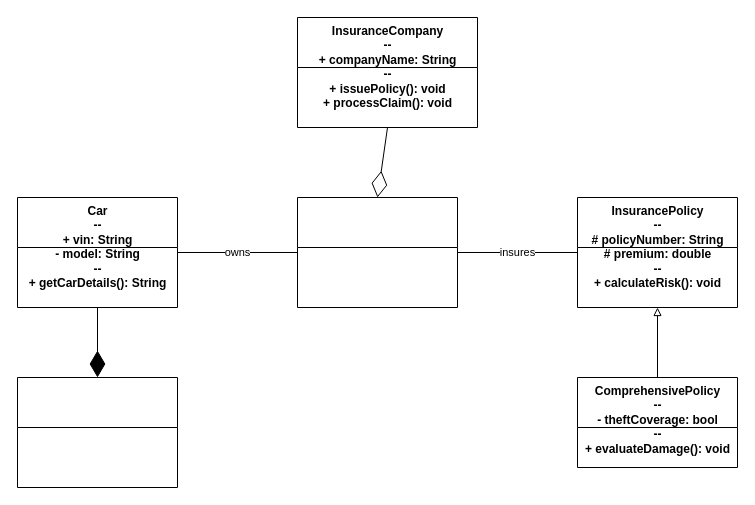
Some shapes in this 755 by 505 pixel diagram are drawn without their labels. The box of each missing label's shape, as (x1, y1, x2, y2) in pixels:
Customer -- - customerID: String + name: String -- + buyPolicy(): void: (296, 196, 458, 308)
Engine -- - engineID: String - hp: int -- + start(): void: (16, 376, 178, 488)
